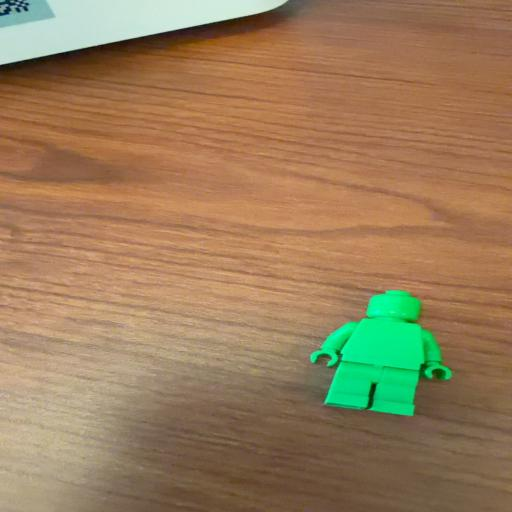UnoQ-minifig-detector: (311, 290, 451, 415)
